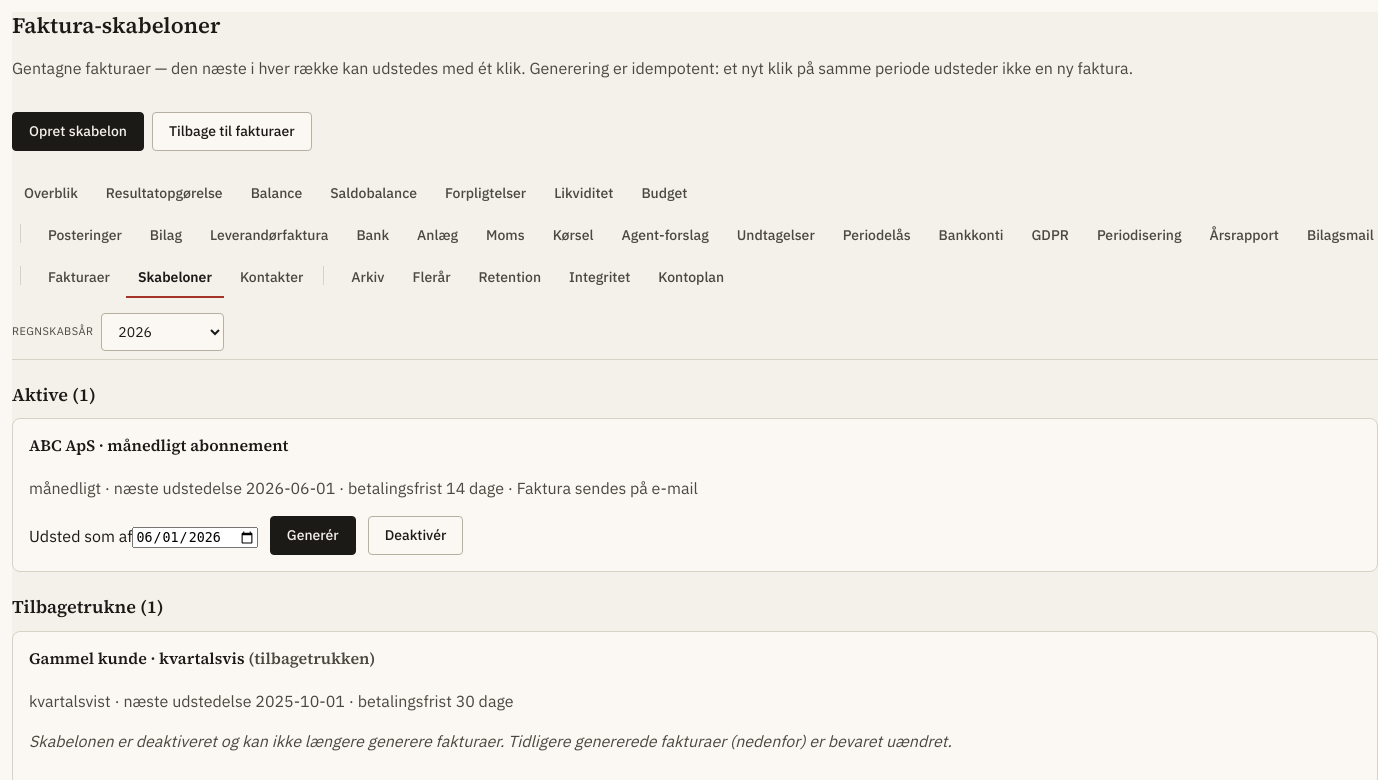
Test: RecurringInvoicesView — Faktura-skabeloner › A server error from the retire endpoint is surfaced as a banner
Check: the heading "ABC ApS · månedligt abonnement" is shown, box x1=29 y1=434 x2=288 y2=456
Click the button "Deaktivér" at (415,536), box x1=368 y1=516 x2=463 y2=555
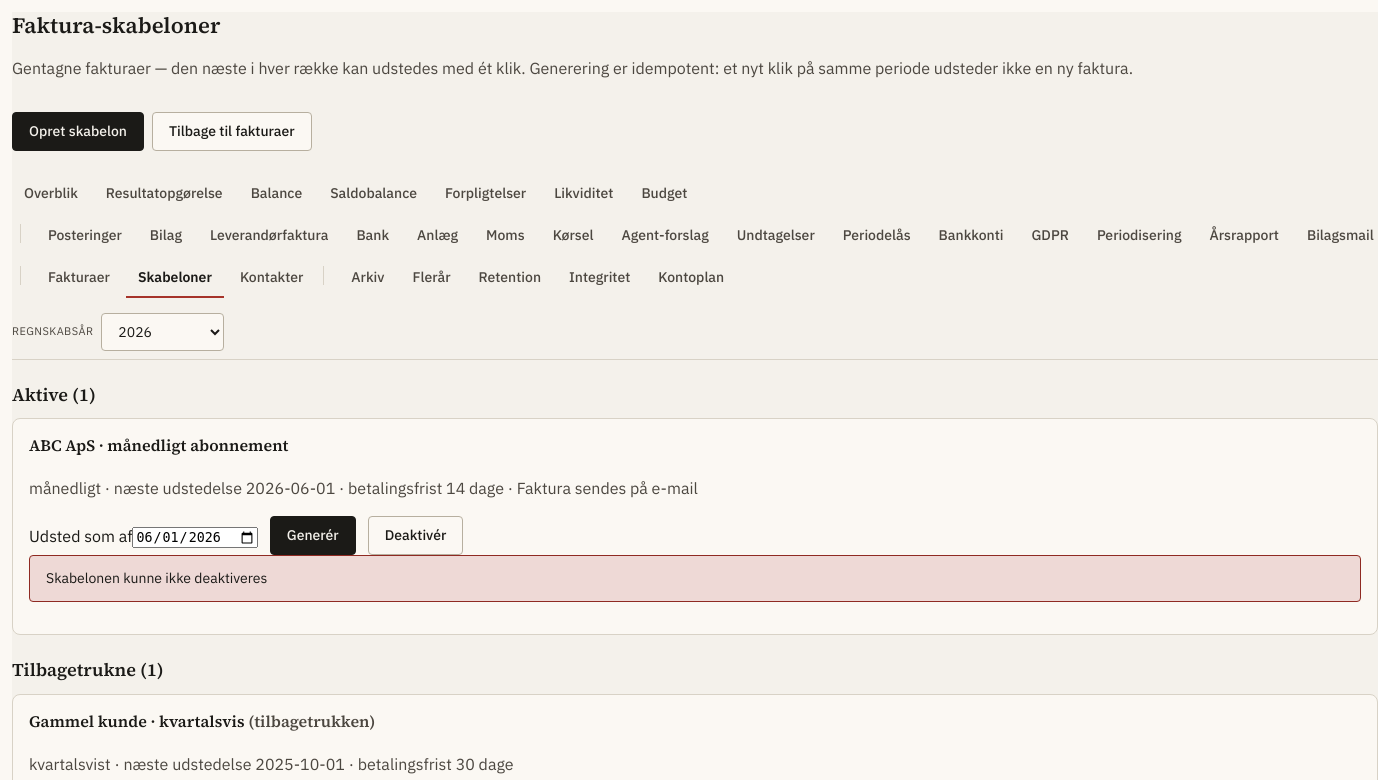
Check: the text "Skabelonen kunne ikke deaktiveres" is shown, box x1=29 y1=555 x2=1361 y2=602
